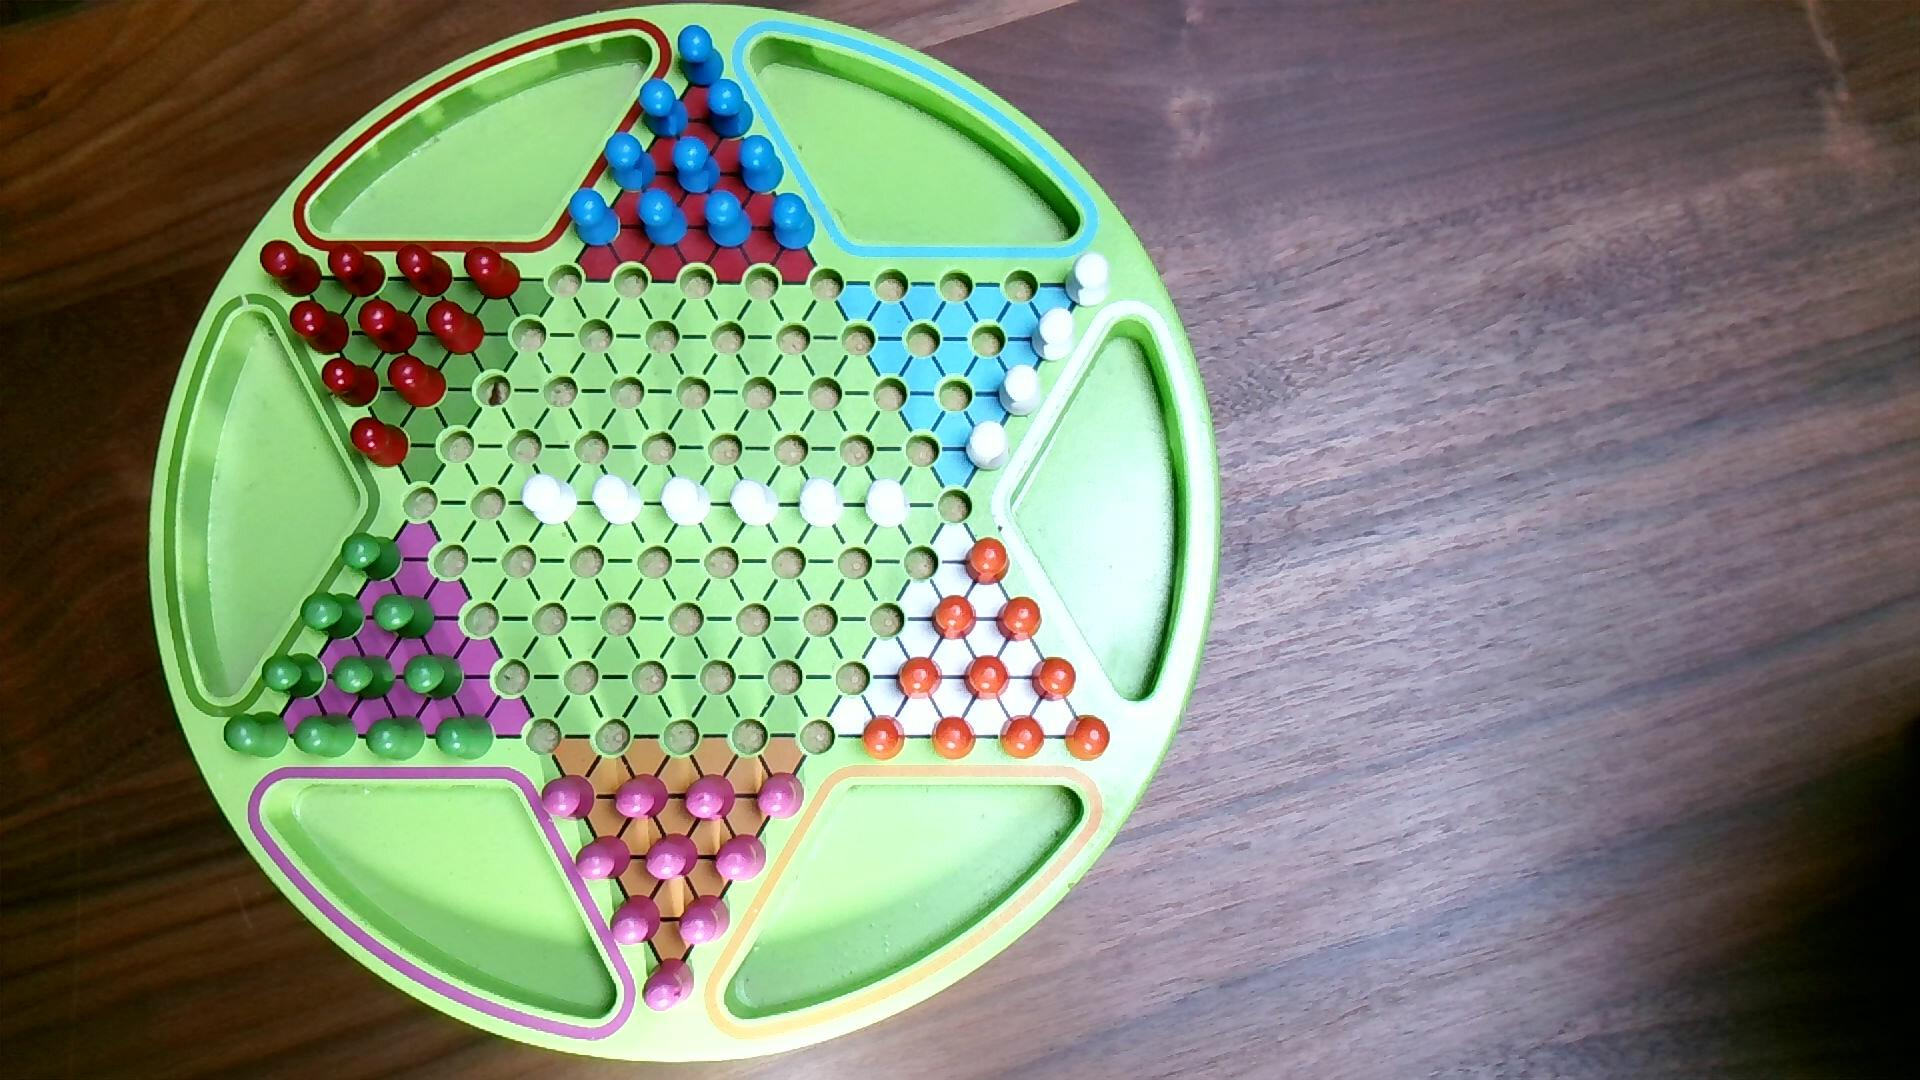B: (603, 131, 659, 196), (566, 185, 622, 249), (637, 76, 694, 141), (704, 76, 757, 142), (669, 133, 723, 196), (636, 187, 690, 249), (702, 189, 756, 251), (736, 133, 789, 196), (676, 24, 727, 90), (767, 190, 819, 253)
G: (299, 589, 368, 644), (339, 531, 405, 584), (223, 709, 291, 760), (261, 651, 328, 702), (331, 653, 398, 703), (291, 712, 360, 760), (372, 592, 436, 642), (404, 651, 465, 703), (365, 713, 427, 764), (434, 713, 496, 764)
O: (1063, 713, 1112, 764), (964, 535, 1011, 587), (996, 595, 1044, 644), (930, 715, 978, 762), (1000, 713, 1047, 762), (931, 593, 978, 642), (862, 713, 909, 764), (895, 655, 945, 702), (964, 654, 1011, 702), (1031, 655, 1077, 703)
R: (258, 239, 324, 301), (356, 295, 421, 357), (425, 297, 487, 357), (386, 352, 450, 411), (289, 298, 352, 357), (326, 243, 389, 301), (394, 243, 455, 301), (320, 355, 381, 410), (463, 245, 524, 301), (349, 415, 411, 469)
R2: (641, 956, 698, 1014), (609, 893, 663, 948), (575, 833, 634, 882), (678, 894, 732, 947), (644, 832, 700, 882), (683, 773, 738, 823), (615, 773, 671, 822), (541, 774, 597, 823), (713, 833, 767, 884), (756, 771, 806, 822)
W: (521, 473, 580, 529), (589, 473, 647, 527), (659, 475, 713, 529), (1030, 306, 1077, 367), (796, 475, 847, 531), (1063, 251, 1112, 309), (729, 477, 782, 530), (996, 363, 1044, 419), (963, 418, 1011, 473), (864, 477, 911, 530)
